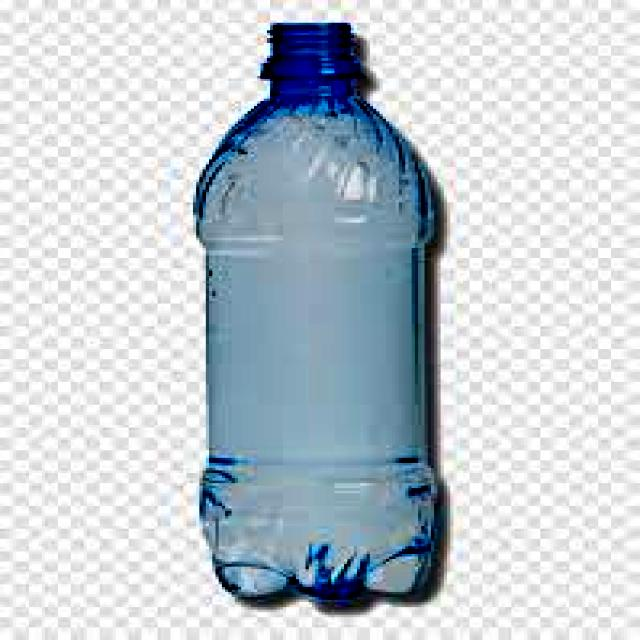Plastic: (189, 19, 446, 601)
